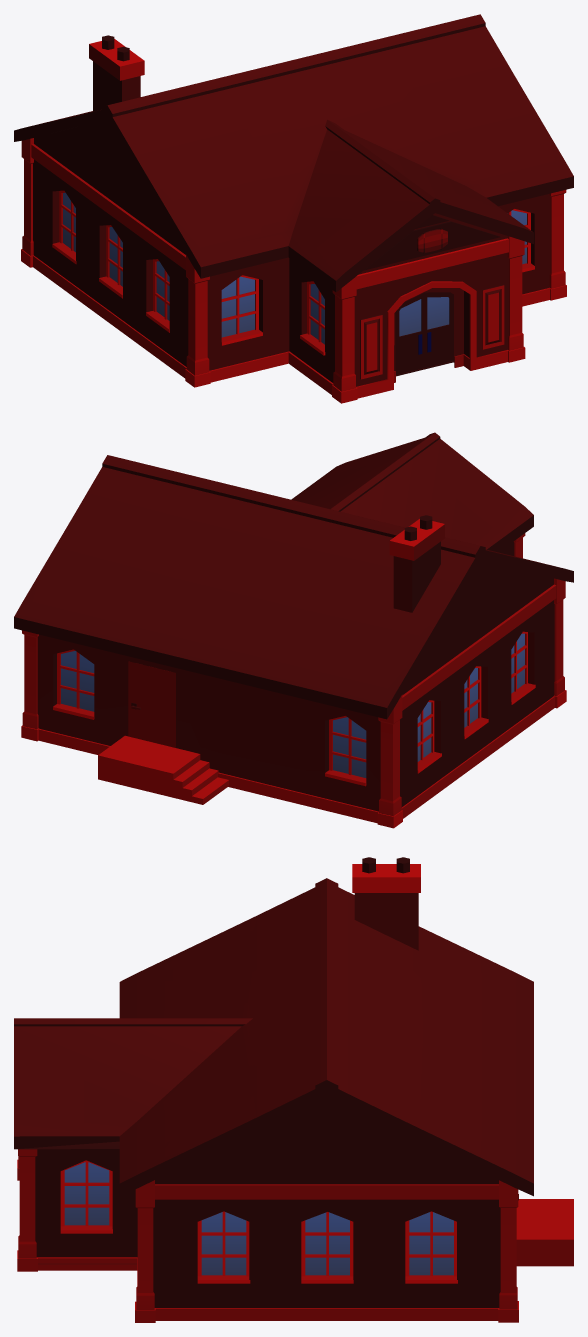
The model's file is buildings-business-pub_v1.fbx.
3 renders of one model, top to bottom at view 1: azimuth 30°, elevation 25°; view 2: azimuth 150°, elevation 25°; view 3: azimuth 270°, elevation 25°, orthographic. The views are drawn at different scales.
Visible parts, largest first — view 1: Pub_base, Pub_windowRefl; view 2: Pub_base, Pub_windowRefl; view 3: Pub_base, Pub_windowRefl.
Boxes of the visible parts, left/top/right/bottom form: Pub_base: left=14, top=14, right=573, bottom=403; Pub_windowRefl: left=63, top=192, right=526, bottom=344; Pub_base: left=14, top=432, right=573, bottom=828; Pub_windowRefl: left=61, top=633, right=524, bottom=777; Pub_base: left=14, top=857, right=573, bottom=1322; Pub_windowRefl: left=64, top=1162, right=453, bottom=1275.
Size of the model in its own units: 15.45 by 9.98 by 18.11.
